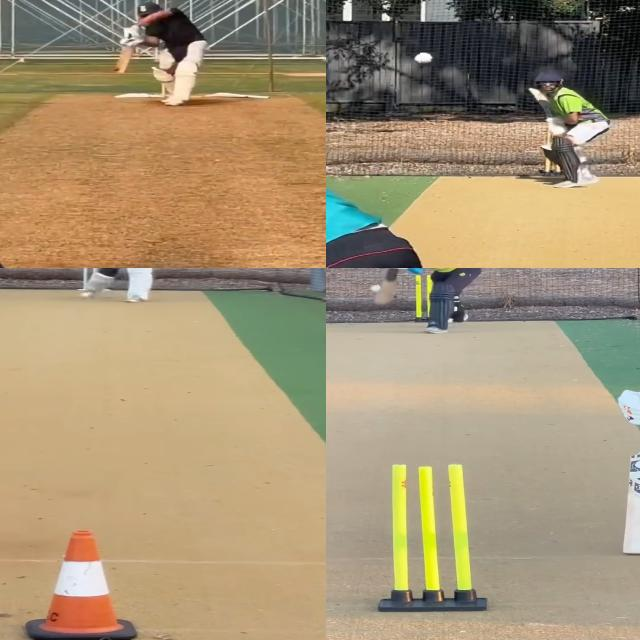Cricket ball: (412, 52, 436, 66), (369, 284, 383, 292), (541, 142, 553, 150), (80, 292, 93, 299)
Stumps: (374, 463, 491, 613)
